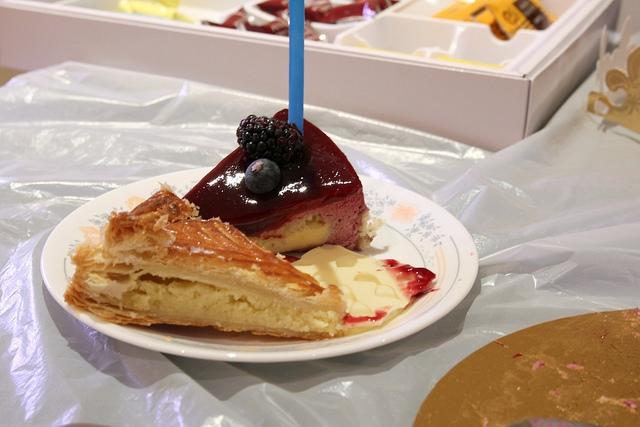blackberry: (237, 115, 304, 169)
